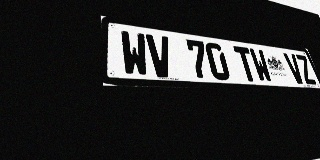0: (204, 42, 231, 81)
7: (184, 39, 212, 80)
T: (233, 46, 259, 82)
V: (145, 34, 175, 78), (283, 53, 306, 84)
W: (120, 30, 150, 77), (248, 48, 274, 83)
Z: (295, 54, 317, 85)
